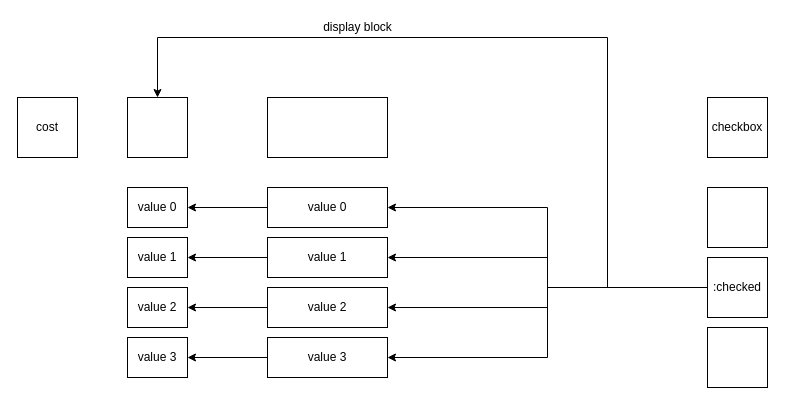
This 785x405 diagram has some shape labels left out. The box of each missing label's shape, as (x1, y1, x2, y2) in pixels:
discount: (126, 96, 188, 158)
select: (266, 96, 388, 158)
